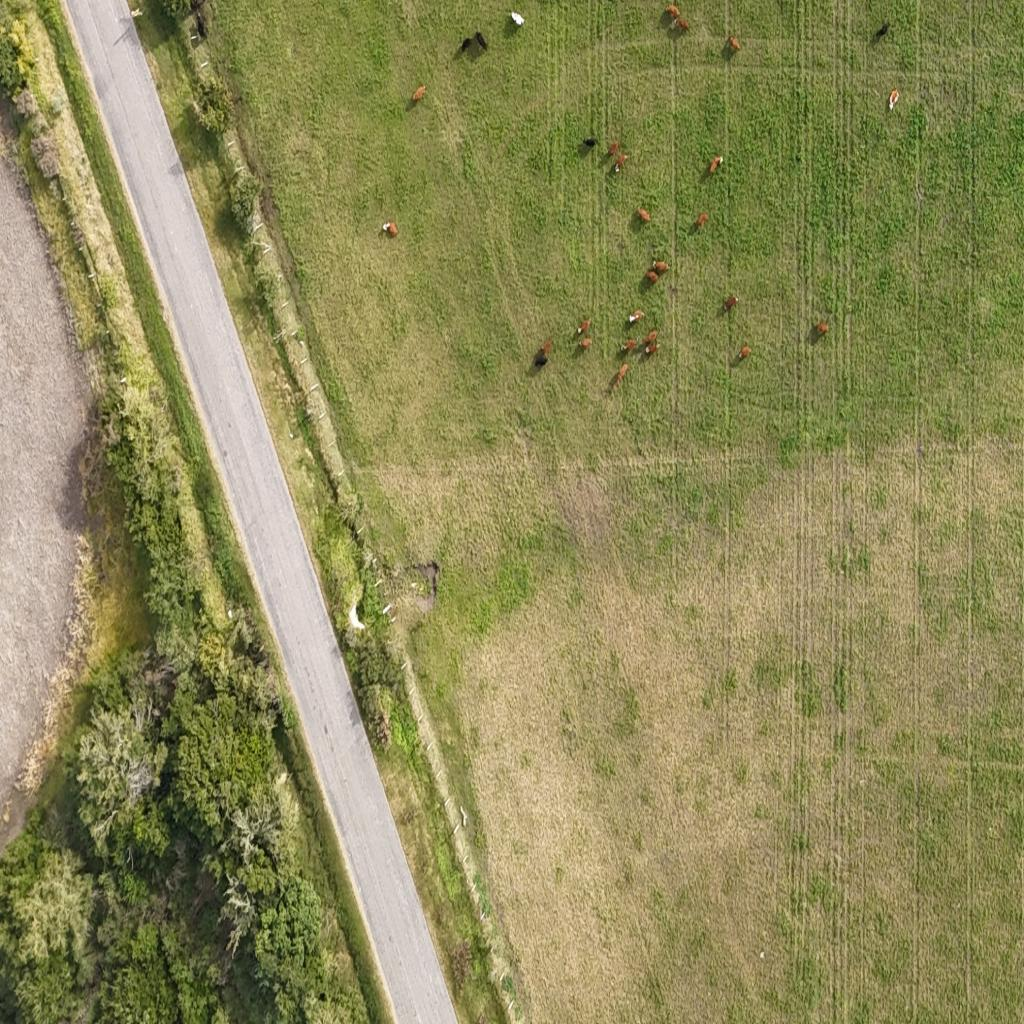cow: (612, 364, 628, 392), (534, 341, 551, 367), (610, 152, 629, 174), (473, 30, 489, 56), (872, 21, 890, 42), (737, 343, 754, 365), (411, 85, 426, 106), (724, 294, 738, 316), (815, 319, 830, 338), (642, 342, 661, 357), (643, 328, 657, 348), (888, 87, 899, 112), (628, 307, 644, 324), (510, 10, 525, 28), (712, 156, 725, 176), (620, 338, 636, 354), (381, 215, 396, 232), (606, 141, 620, 159), (675, 16, 689, 34), (665, 4, 680, 20), (636, 207, 650, 224), (652, 260, 668, 274), (694, 213, 708, 229), (728, 31, 739, 51), (460, 37, 472, 55), (579, 318, 590, 336), (646, 269, 660, 283), (583, 137, 597, 149)
